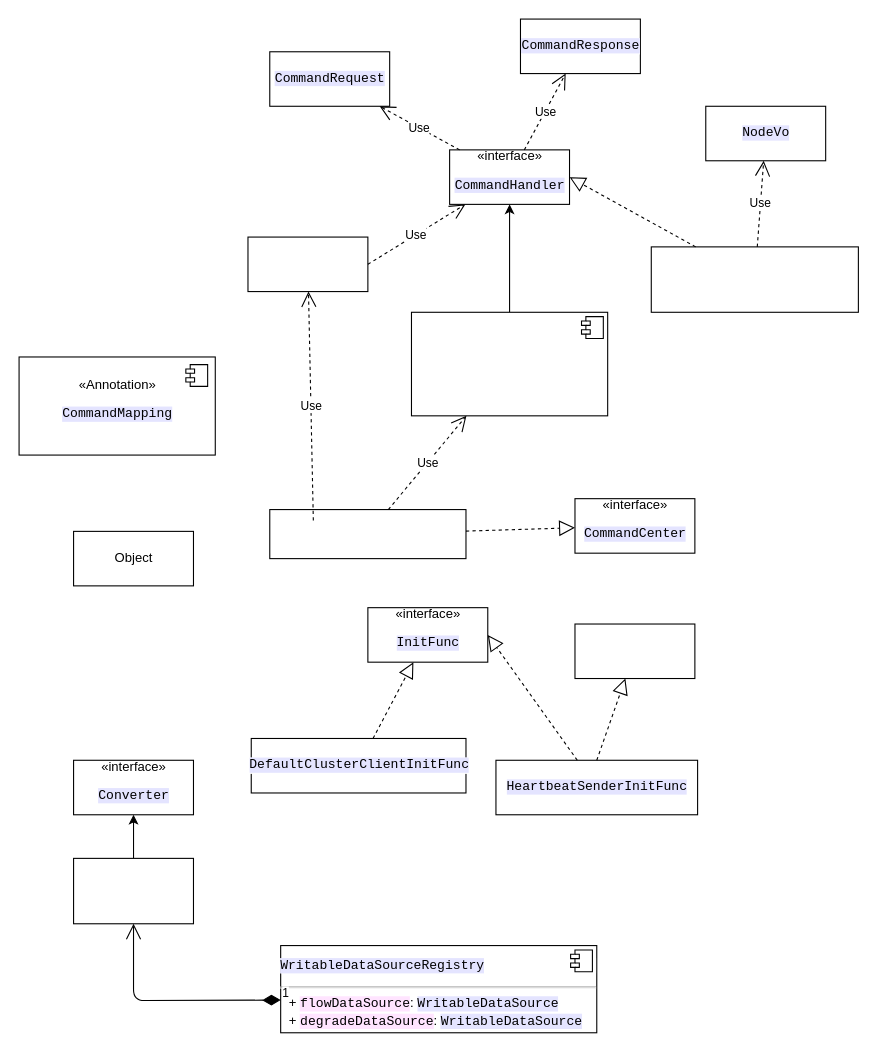
Some shapes in this 880 by 1052 pixel diagram are drawn without their labels. Each missing label, with the box of its shape:
CommandHandlerProvider: (410, 311, 608, 416)
FetchJsonTreeCommandHandler: (650, 246, 858, 312)
HttpEventTask: (247, 236, 368, 292)
SimpleHttpCommandCenter: (269, 508, 466, 559)
«interface» HeartbeatSender: (574, 623, 695, 679)
«interface» WritableDataSource: (72, 857, 193, 924)
